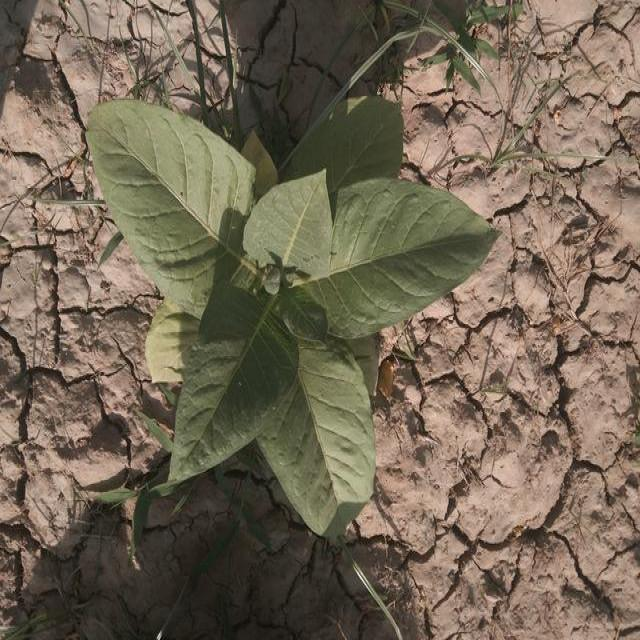crop: (82, 95, 498, 532)
